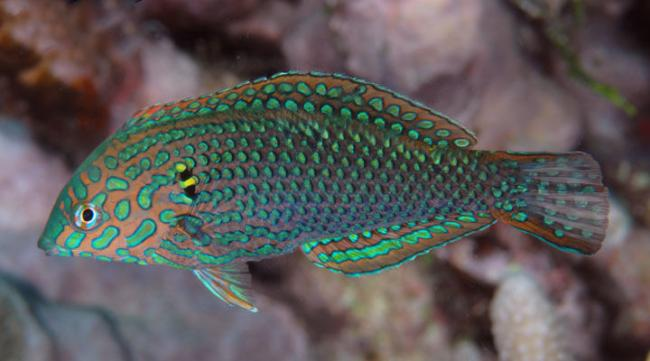fish: (36, 69, 610, 315)
